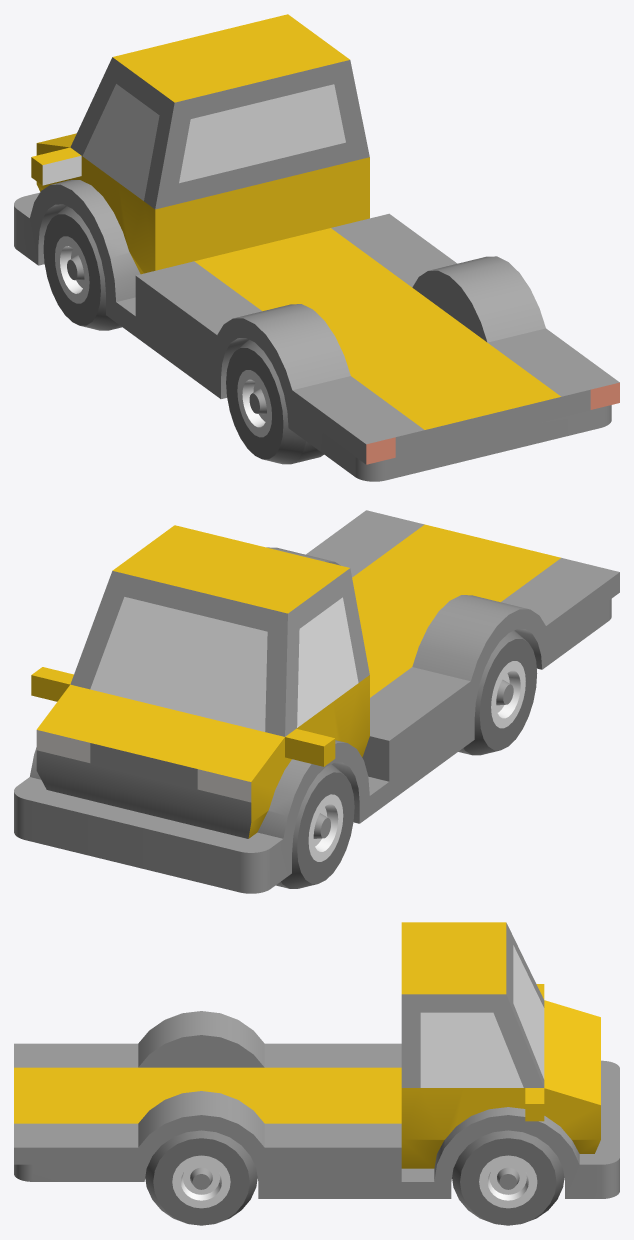
Rendered from deliveryFlat.glb.
3 renders of one model, top to bottom at view 1: azimuth 30°, elevation 25°; view 2: azimuth 150°, elevation 25°; view 3: azimuth 270°, elevation 25°, orthographic. The views are drawn at different scales.
Parts seen in each view (by area): view 1: body, wheel_backLeft, wheel_frontLeft; view 2: body, wheel_backLeft, wheel_frontLeft; view 3: body, wheel_backRight, wheel_frontRight.
Part boxes in pixels (x1=…): body: x1=14, y1=14, x2=619, y2=481; wheel_backLeft: x1=226, y1=339, x2=323, y2=464; wheel_frontLeft: x1=43, y1=206, x2=121, y2=330; body: x1=14, y1=510, x2=619, y2=893; wheel_backLeft: x1=458, y1=630, x2=537, y2=755; wheel_frontLeft: x1=276, y1=764, x2=354, y2=888; body: x1=14, y1=922, x2=619, y2=1198; wheel_backRight: x1=145, y1=1130, x2=257, y2=1225; wheel_frontRight: x1=452, y1=1130, x2=564, y2=1225.
Size of the model in its own units: 1.5 by 1.3 by 3.2.
